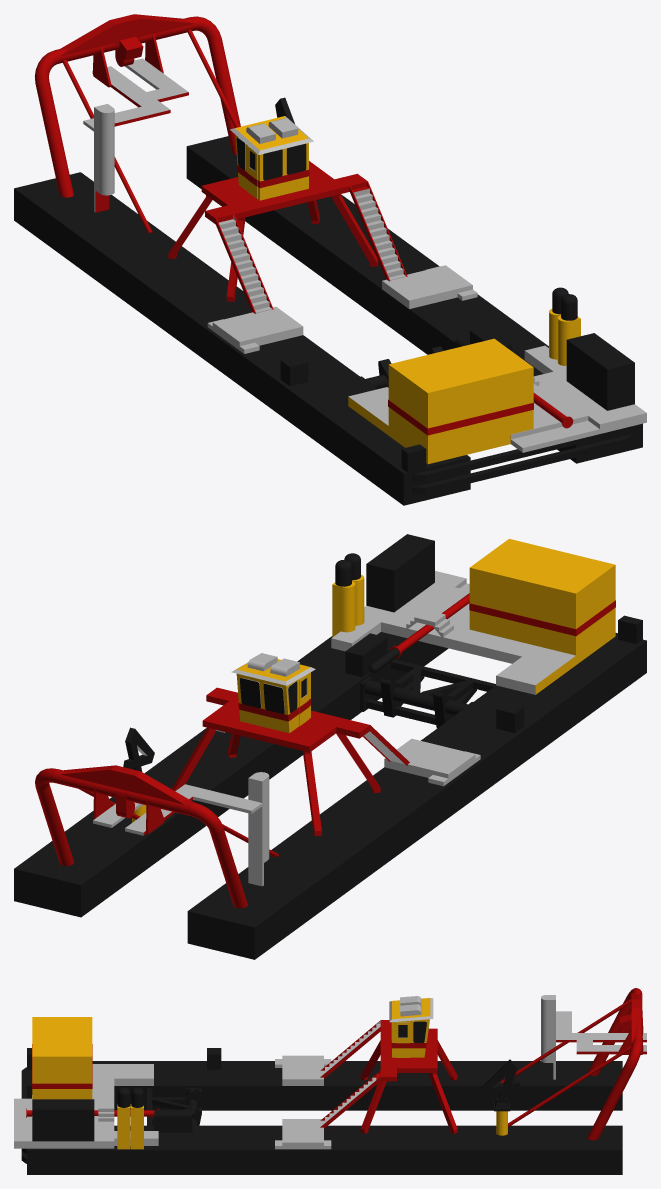
The model's file is SilviHull_fbx.glb.
3 views of the same model, one above another, from view 1: azimuth 30°, elevation 25°; view 2: azimuth 150°, elevation 25°; view 3: azimuth 270°, elevation 25° (orthographic). The views are drawn at different scales.
Visible parts, largest first — view 1: Component_2, Component_13, Component_14, Component_11, Component_3, Component_16; view 2: Component_2, Component_13, Component_14, Component_11, Component_15, Component_10, Component_3, Component_16, Component_12; view 3: Component_2, Component_13, Component_14, Component_11, Component_10, Component_15, Component_8, Component_16.
Boxes of the visible parts, x1,y1,x2,y2 form: Component_2: (14,136,642,505); Component_13: (348,287,646,464); Component_14: (168,116,477,353); Component_11: (34,14,240,232); Component_3: (428,402,533,435); Component_16: (280,356,308,386); Component_2: (14,632,646,959); Component_13: (331,534,615,694); Component_14: (172,653,480,836); Component_11: (35,765,278,908); Component_15: (345,633,387,677); Component_10: (123,727,154,822); Component_3: (469,603,575,636); Component_16: (496,702,524,733); Component_12: (618,615,642,643); Component_2: (21,1061,622,1174); Component_13: (14,1017,158,1149); Component_14: (275,996,457,1149); Component_11: (500,988,646,1140); Component_10: (480,1059,521,1135); Component_15: (154,1109,192,1132); Component_8: (32,1083,92,1088); Component_16: (207,1048,221,1069).
Bounding box in the file's own units: 468 × 311 × 1404.
